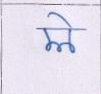o_matra: (64, 16, 77, 54)
